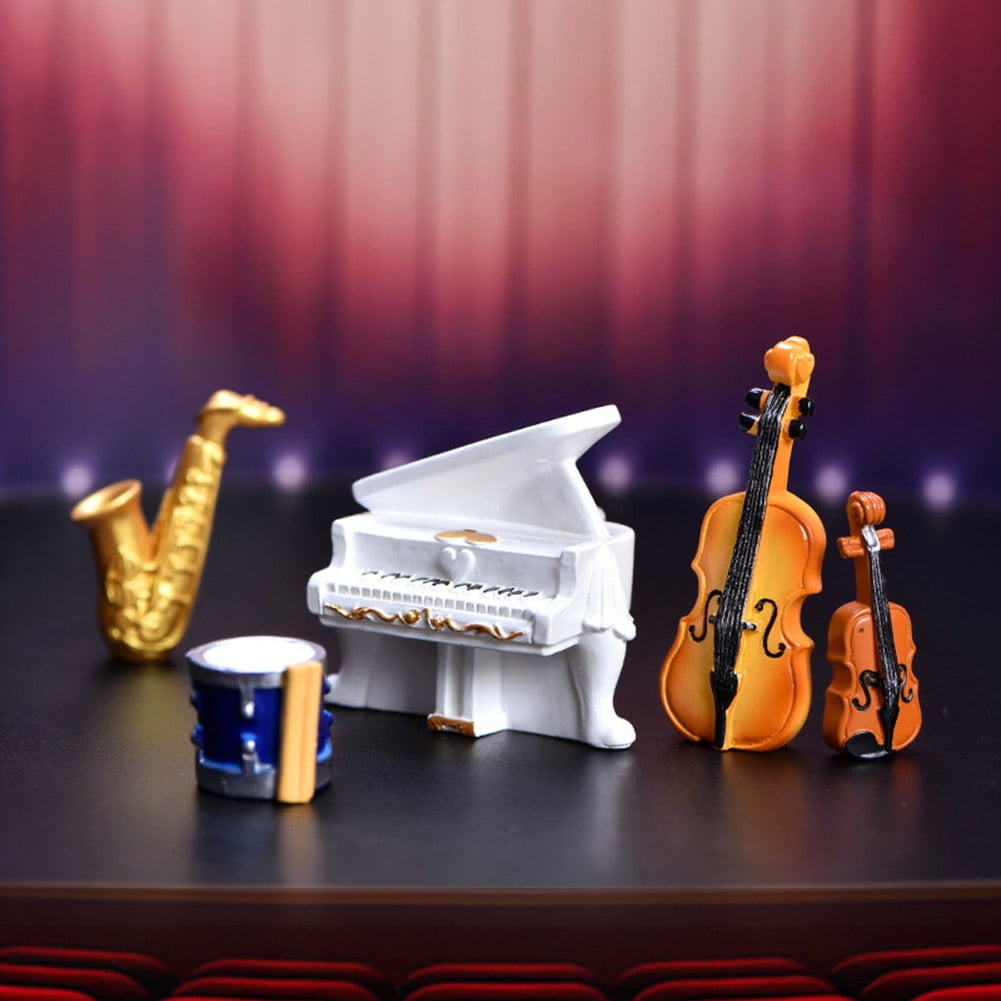Piano: (277, 401, 671, 800)
Saxophone: (25, 343, 321, 700)
Violin: (816, 480, 997, 850)
